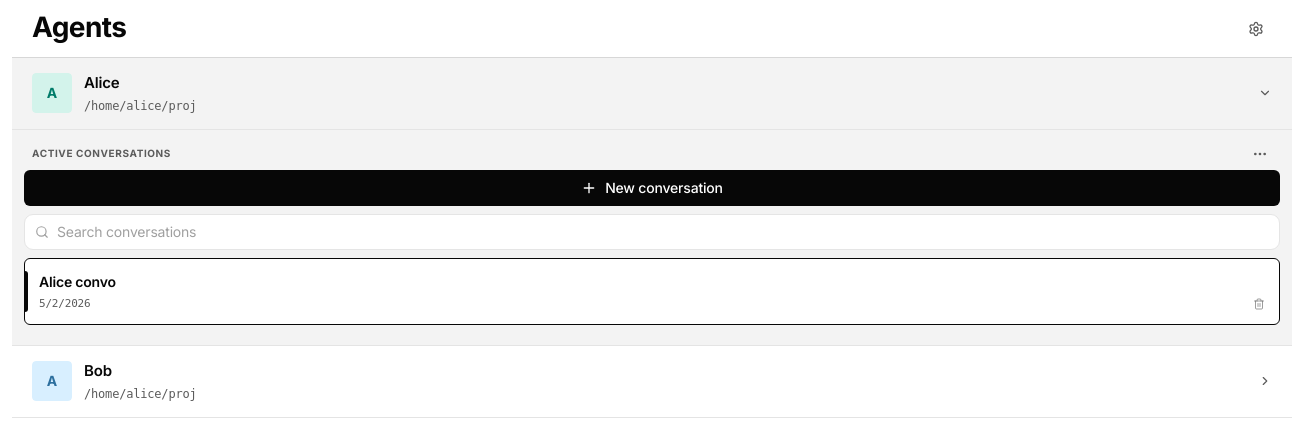
it: MobileAgentsScreen › renders each agent's own conversation list when multiple rows are expanded over time
Check: the number of elements with class "agent-conversations" is 1, box [12,130,1292,346]
Check: the element with class "agent-conversations" shows "Alice convo", box [39,272,116,290]
Click the button with class "agent-row" showing "A Bob /home/alice/proj": click(52, 381) [12,346,1292,418]
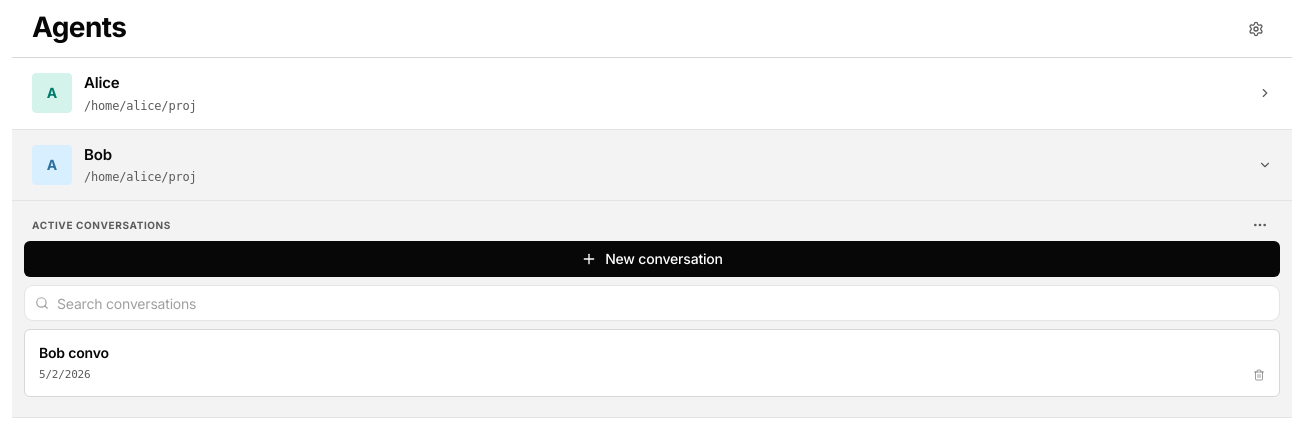
Check: the number of elements with class "agent-conversations" is 1, box [12,201,1292,418]
Check: the element with class "agent-conversations" shows "Bob convo", box [39,344,109,361]
Check: the text with class "agent-conversations" no longer shows "Alice convo"
